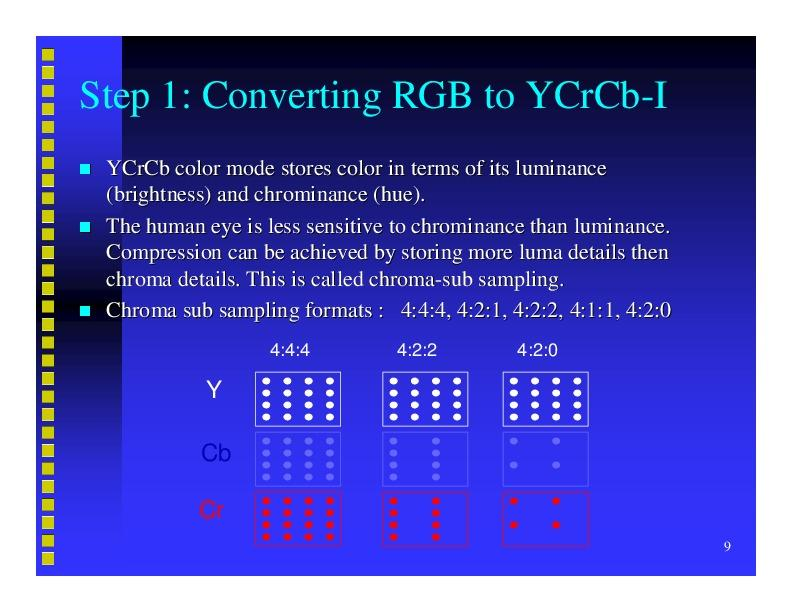paragraph: (69, 150, 691, 556)
title: (75, 60, 671, 124)
